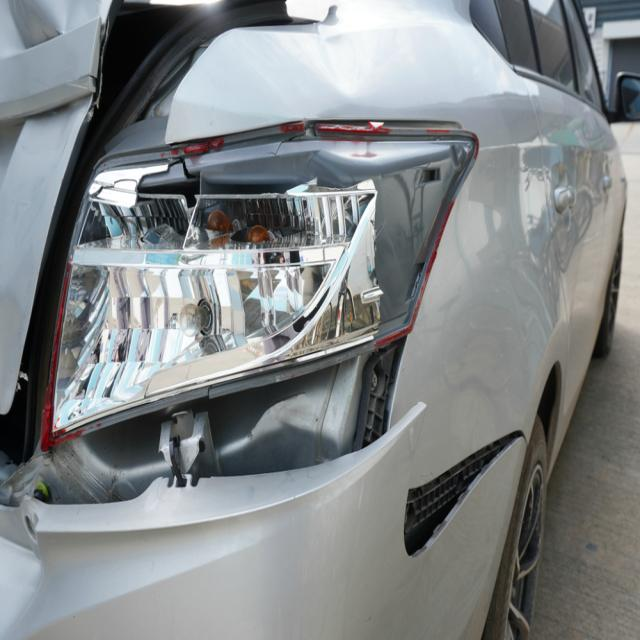Cabossage: (298, 24, 379, 98)
Dechirure: (22, 331, 420, 517), (399, 423, 534, 569)
Phare abime: (40, 119, 486, 450)
